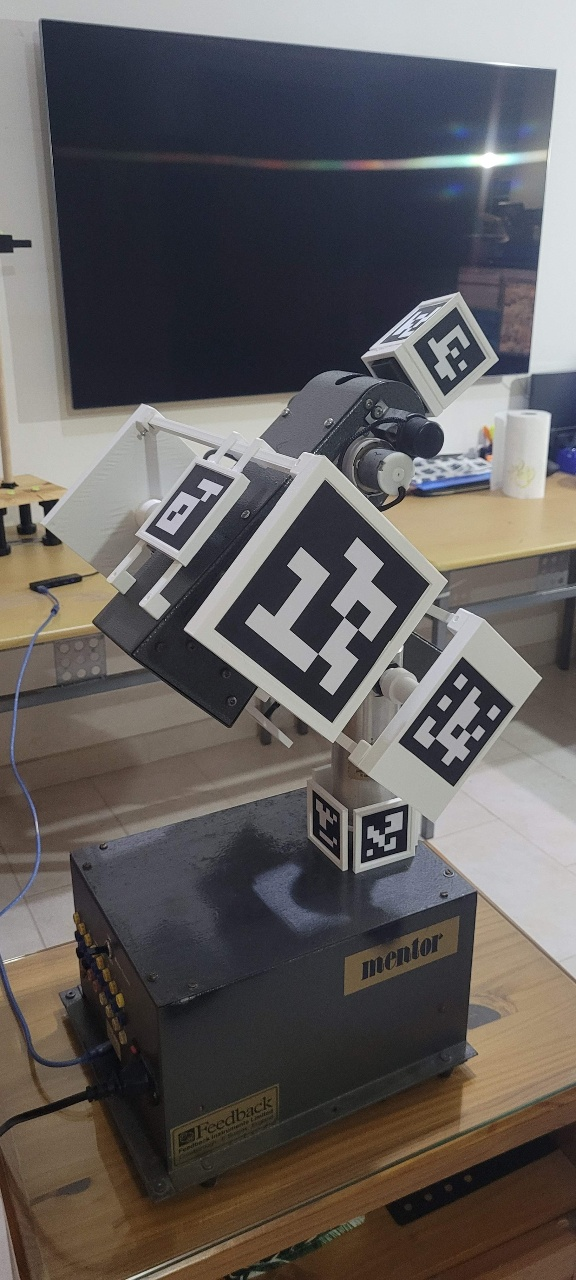Robot: (38, 289, 544, 877)
